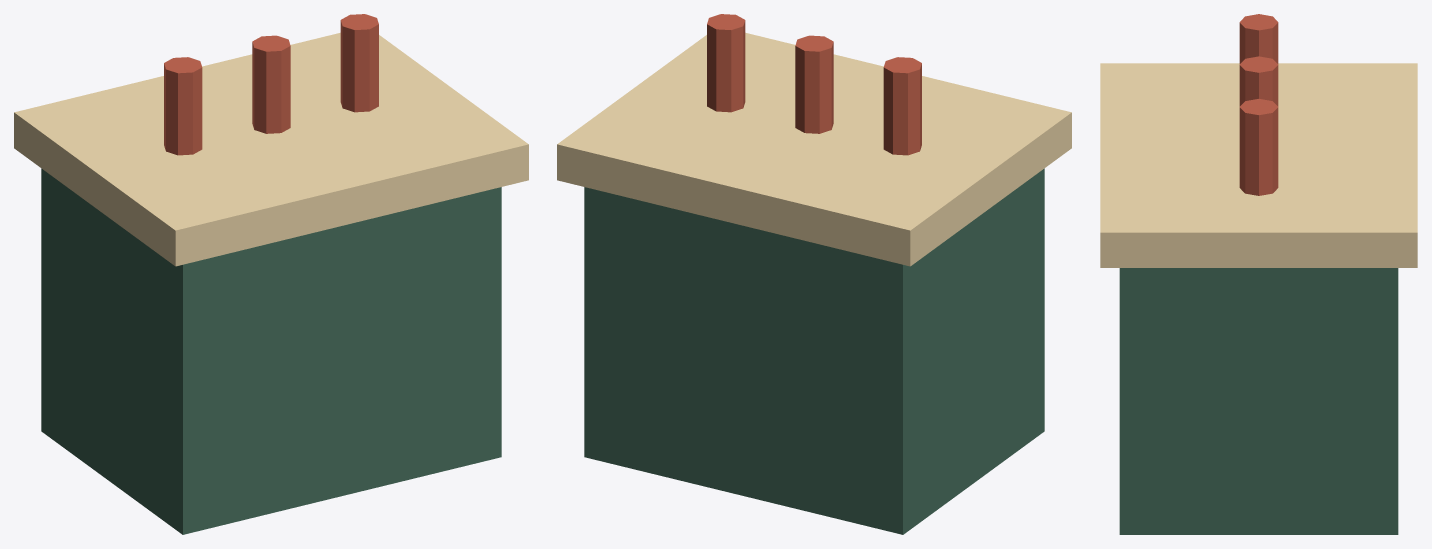
The model's file is festival-box.glb.
3 views of the same model, side by side, from view 1: azimuth 30°, elevation 25°; view 2: azimuth 150°, elevation 25°; view 3: azimuth 270°, elevation 25° (orthographic).
Visible parts, largest first — view 1: Painted_festival_box; view 2: Painted_festival_box; view 3: Painted_festival_box.
Boxes of the visible parts, x1,y1,x2,y2 form: Painted_festival_box: (14, 14, 528, 534); Painted_festival_box: (557, 14, 1071, 534); Painted_festival_box: (1100, 14, 1417, 534).
Size of the model in its own units: 0.72 by 0.78 by 0.57.
